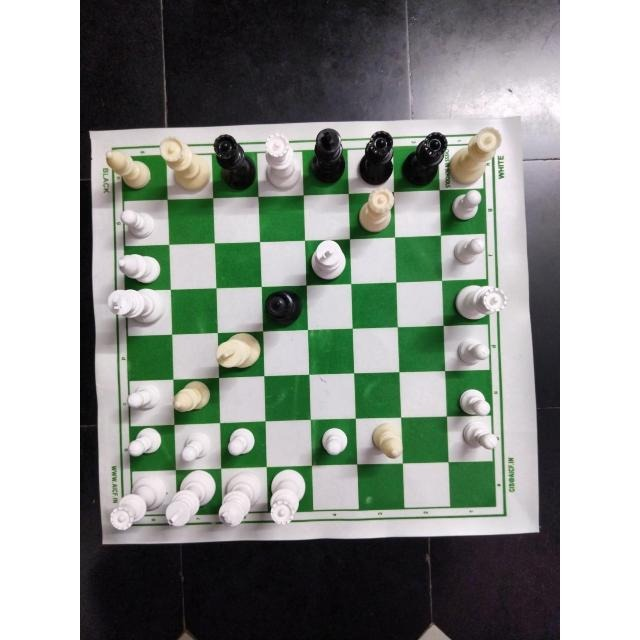black-king: (304, 129, 348, 195)
black-queen: (351, 131, 399, 195), (399, 131, 447, 193), (209, 135, 258, 195), (264, 287, 308, 330)
white-bishop: (362, 422, 414, 466), (101, 151, 155, 191), (110, 250, 160, 283), (171, 380, 213, 418)
white-king: (168, 470, 218, 531), (107, 283, 169, 328), (221, 471, 263, 527), (306, 240, 348, 283), (215, 331, 263, 367)
white-pawn: (451, 185, 496, 226), (227, 417, 267, 461), (119, 206, 165, 243), (121, 375, 161, 417), (455, 328, 497, 368), (316, 417, 351, 459), (456, 421, 498, 453), (133, 429, 169, 462), (453, 236, 490, 268), (459, 384, 491, 418), (180, 429, 209, 465)
white-queen: (450, 125, 504, 189), (159, 136, 214, 198), (109, 474, 164, 536), (267, 472, 313, 530), (260, 134, 302, 192), (449, 284, 509, 324), (354, 192, 402, 237)
